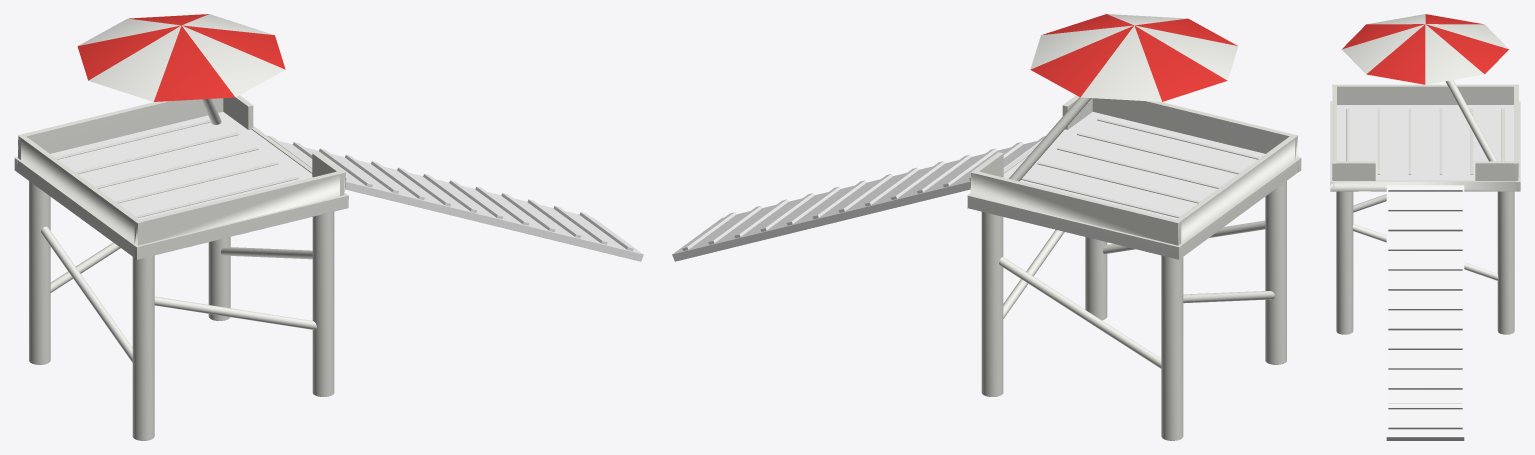
File: lookout_9_canopy.glb
3 views of the same model, side by side, from view 1: azimuth 30°, elevation 25°; view 2: azimuth 150°, elevation 25°; view 3: azimuth 270°, elevation 25° (orthographic). The views are drawn at different scales.
Parts seen in each view (by area): view 1: lookout_9_canopy.001; view 2: lookout_9_canopy.001; view 3: lookout_9_canopy.001.
Boxes of the visible parts, x1,y1,x2,y2 form: lookout_9_canopy.001: (14,14,643,440); lookout_9_canopy.001: (672,14,1301,440); lookout_9_canopy.001: (1330,14,1520,440).
Bounding box in the file's own units: 31.44 × 19.4 × 12.28.
